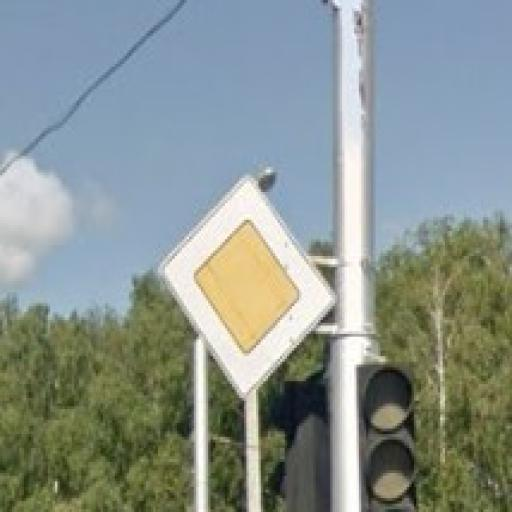traffic_sign: (159, 174, 341, 402)
